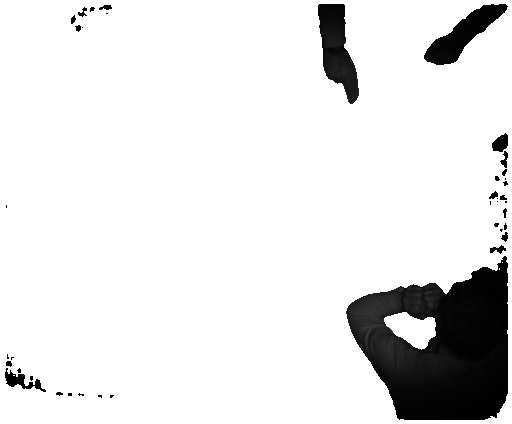fist: (424, 34, 465, 71), (397, 283, 435, 321)
hand: (322, 51, 359, 103)
